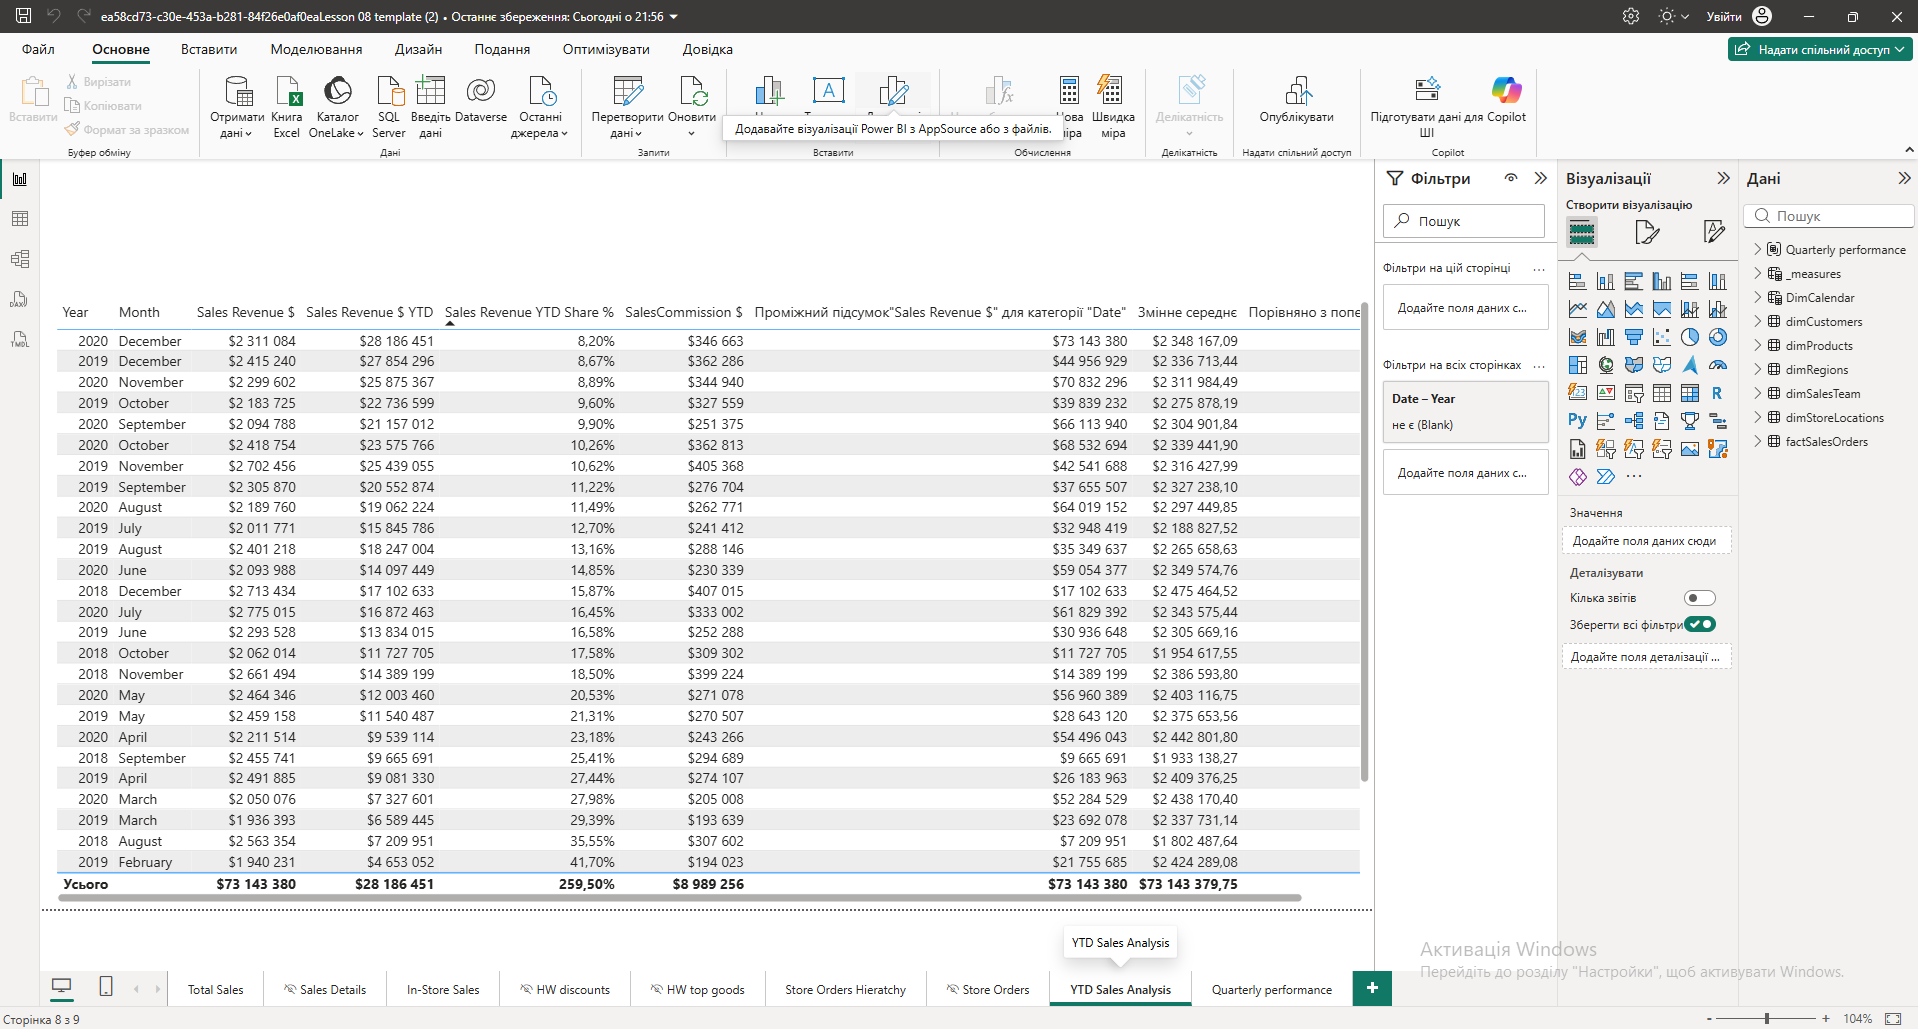

The page's visual inventory and layout, read from the dashboard file:
{"tool":"powerbi","page":{"name":"YTD Sales Analysis","canvas":[1280,720],"ordinal":7},"visuals":[{"type":"tableEx","fields":{"Values":["DimCalendar.Date.Variation.Date Hierarchy.Year","DimCalendar.Date.Variation.Date Hierarchy.Month","_measures.Sales Revenue $","_measures.Sales Revenue $ YTD","_measures.Sales Revenue YTD Share %","_measures.SalesCommission $","_measures.Проміжний підсумок міри \"Sales Revenue $\" для категорії \"Date\"","select","select1"]},"box":[10.4,131.6,1269.6,587.5],"z":0}]}

Visuals, with their boxes on the page's 1280x720 design canvas (x1, y1, x2, y2). These are canvas units, not pixel positions in the 1918x1029 screenshot, which may show the page scaled, cropped or inside an application window:
tableEx - DimCalendar.Date.Variation.Date Hierarchy.Year x DimCalendar.Date.Variation.Date Hierarchy.Month: box=[10, 132, 1280, 719]
